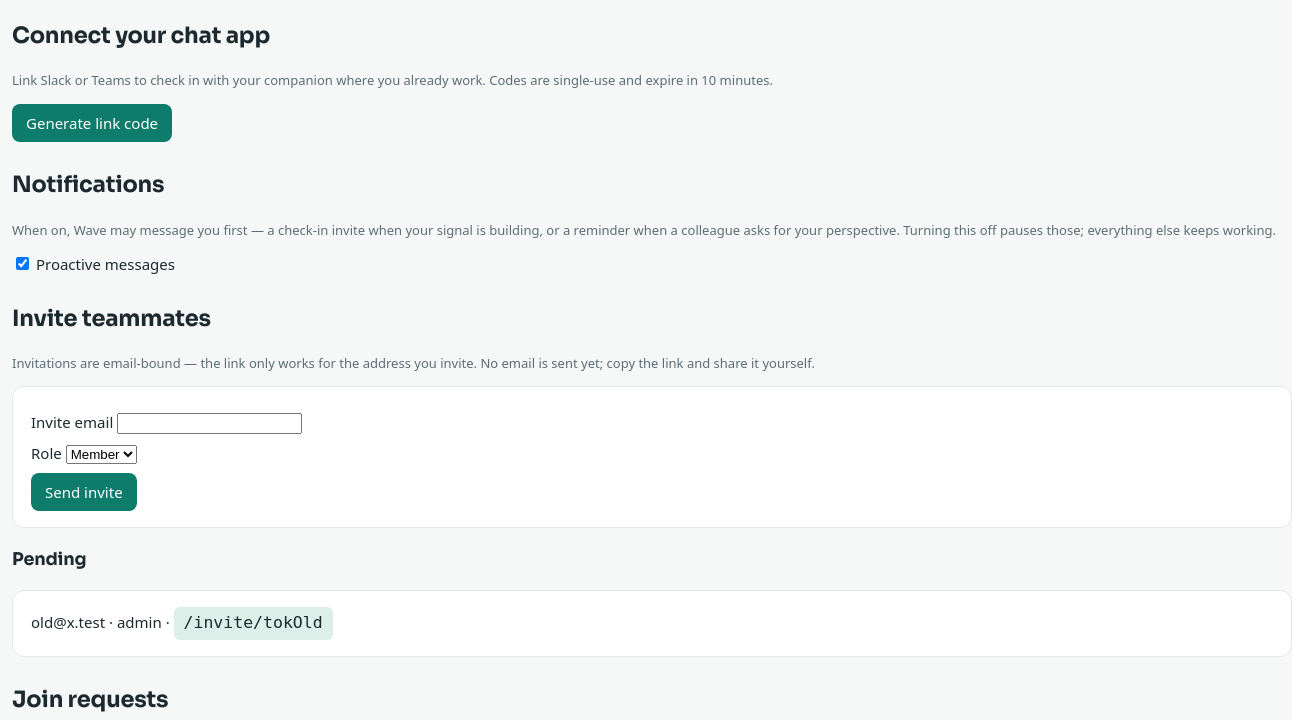
Test: SPEC-020 AC5: invite form in Settings (admin) › POSTs {email, role} and renders the shareable /invite/<token> link + pending list
expect the text "old@x.test · admin · /invite/tokOld" is shown: met, box [12,590,1291,657]
Type "new@x.test" into the field labelled "Invite email". click: {"x": 210, "y": 424}
box: [117,413,302,434]
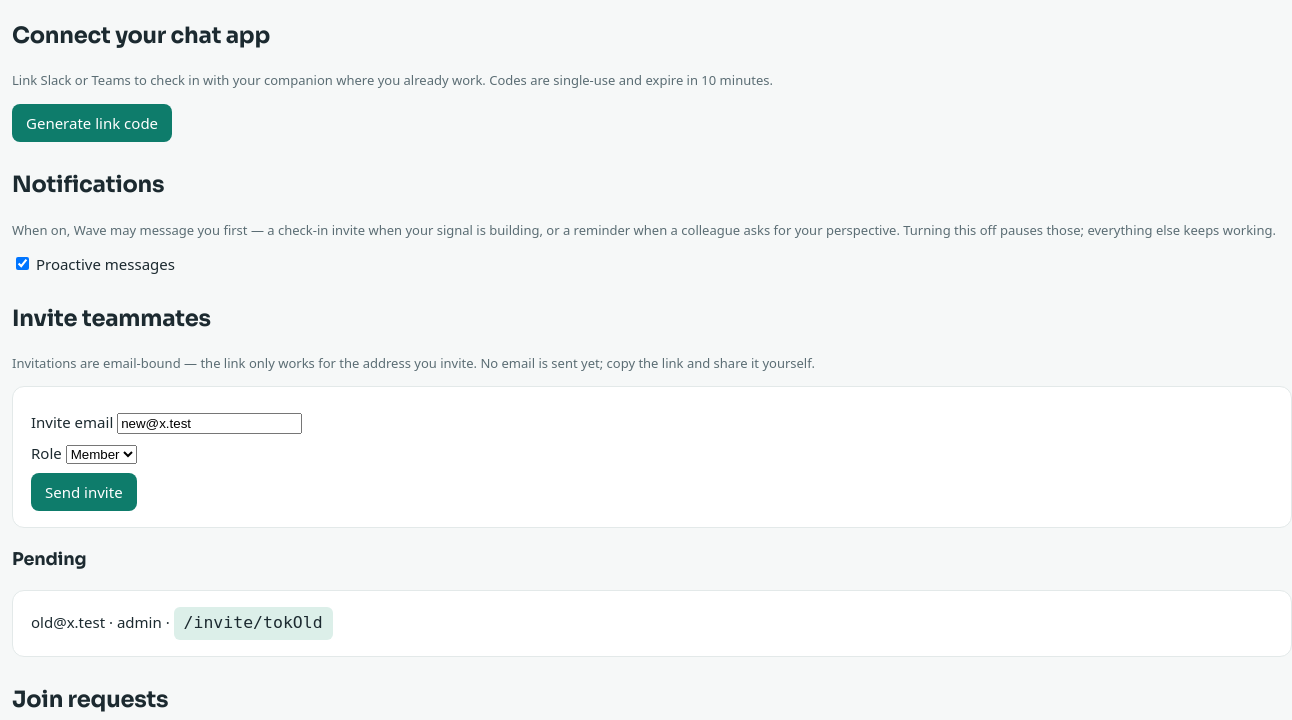
Click the button "Send invite". click: {"x": 84, "y": 492}
box: [31,473,137,511]
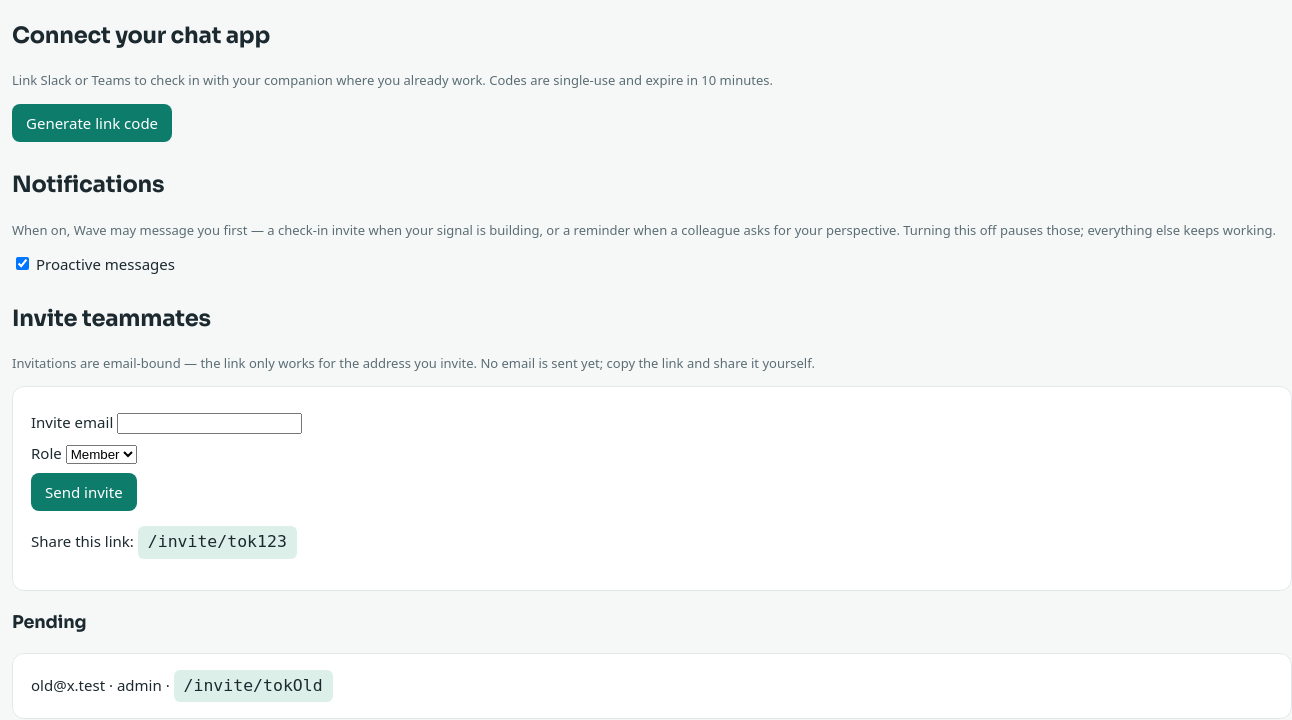
expect the text "/invite/tok123" is shown: met, box [138,526,297,559]
